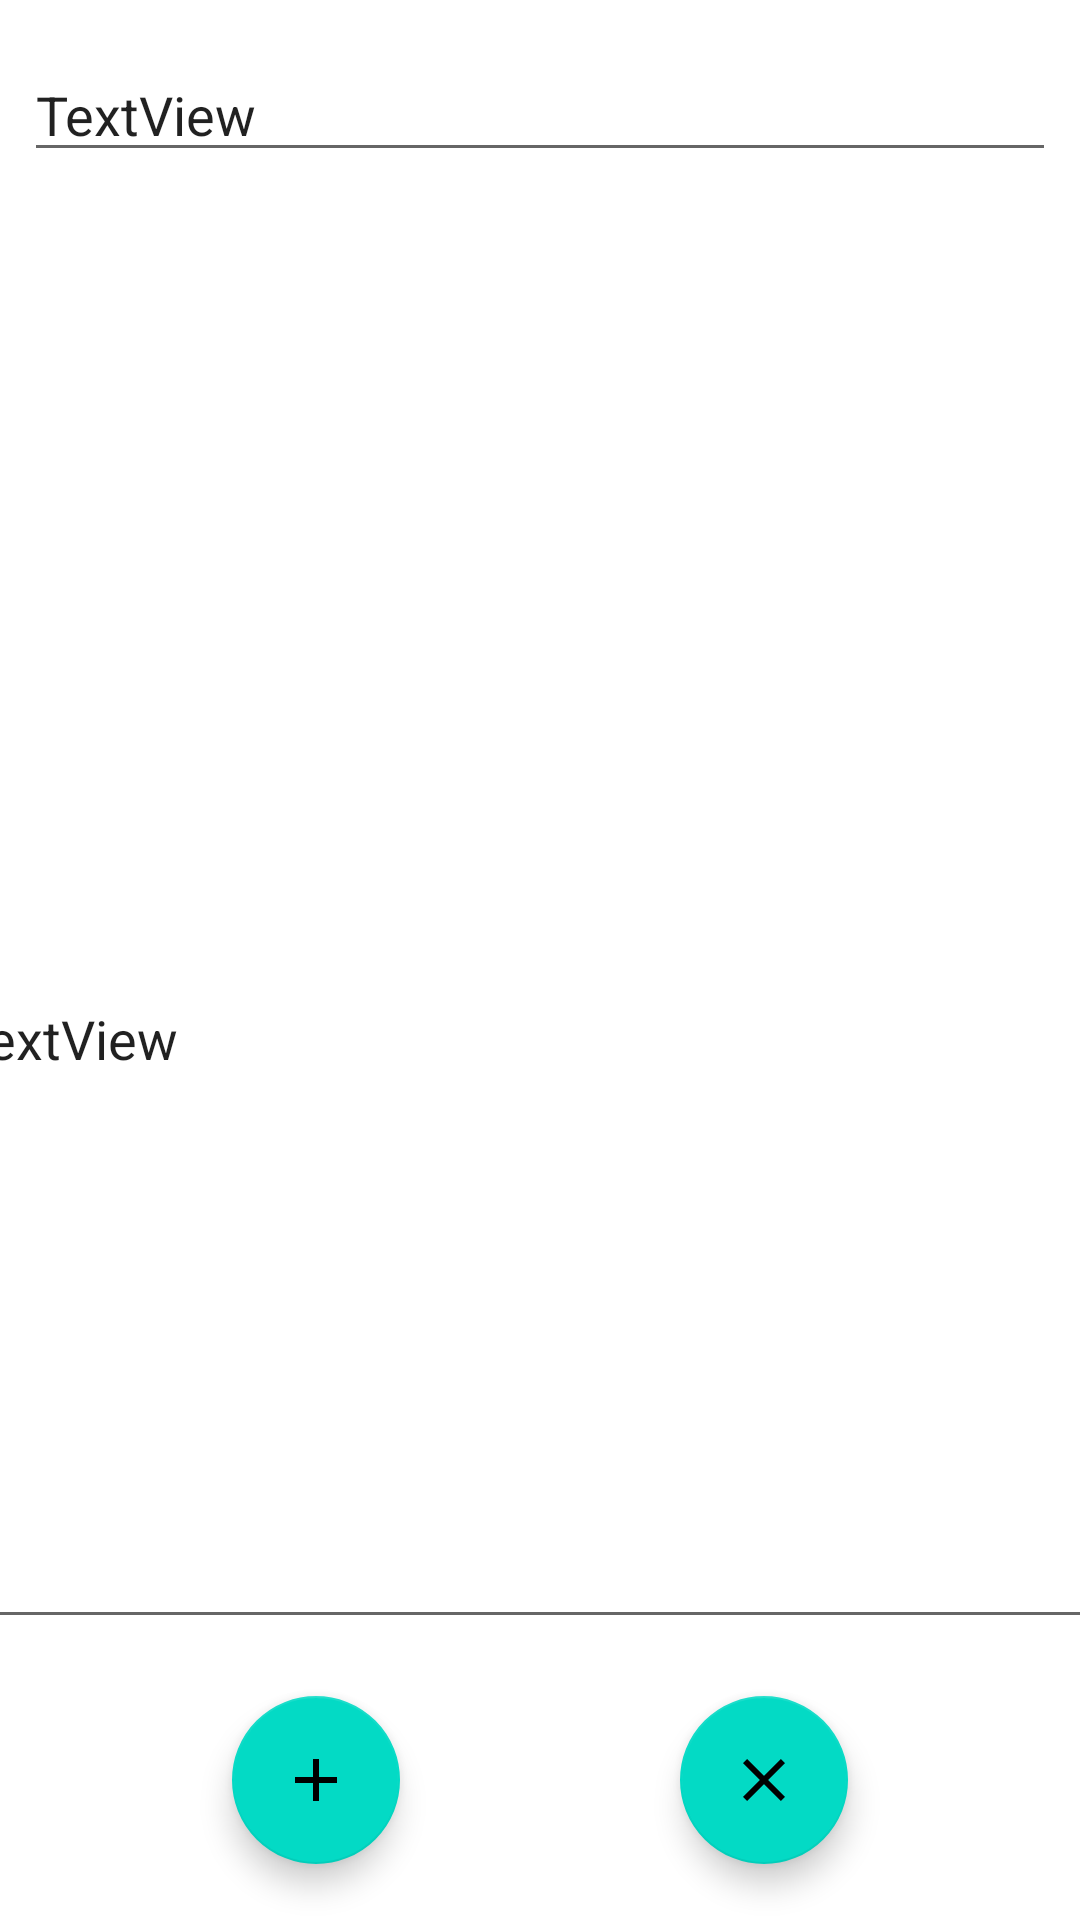

Named icons in this screenshot (1080 × 1920) and their centers, point (x, y):
add: point (316, 1780)
close: point (764, 1780)
